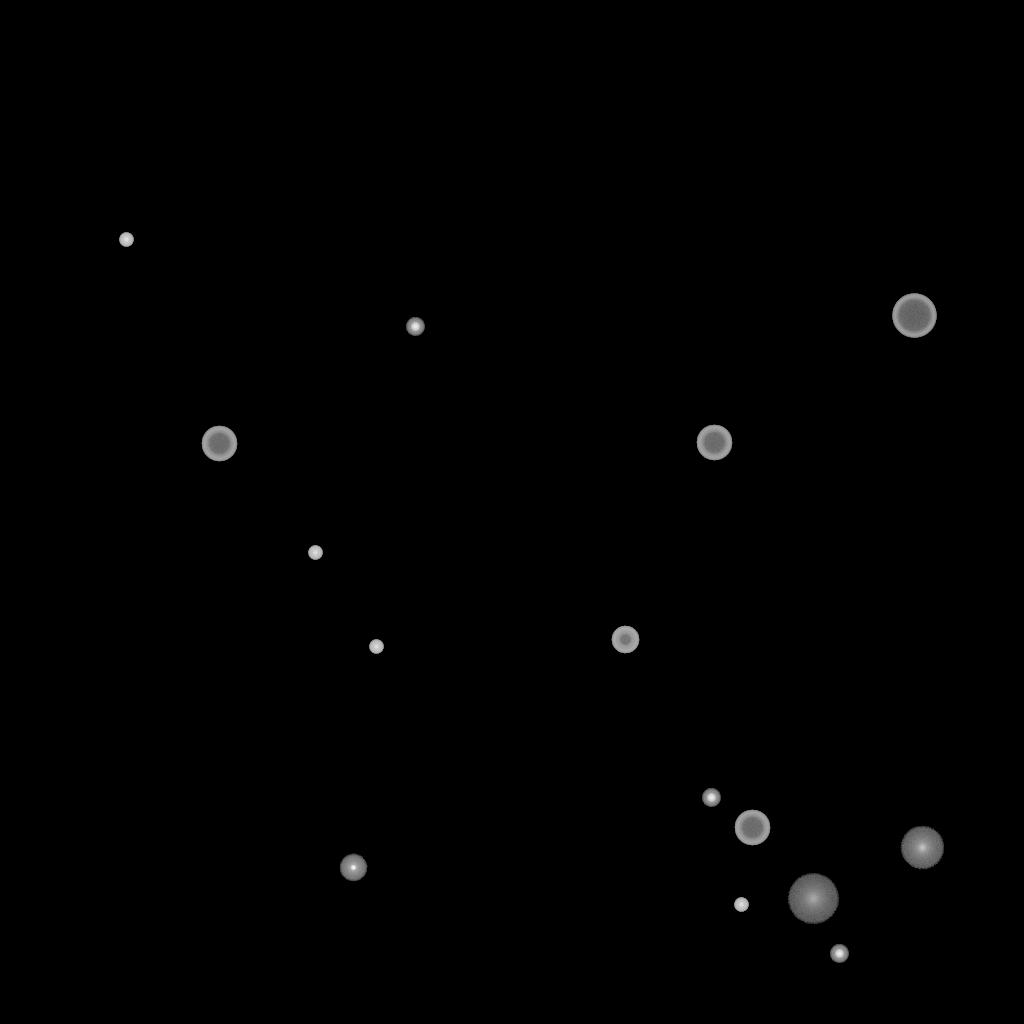depth:-10: (339, 854, 367, 882)
depth:-20: (830, 945, 848, 963), (702, 789, 720, 807), (406, 318, 424, 336)
depth:-30: (308, 546, 322, 560), (119, 233, 133, 247), (734, 898, 748, 912), (369, 640, 383, 654)
depth:-50: (611, 626, 639, 654)
depth:-60: (734, 810, 770, 846), (201, 426, 237, 462), (696, 425, 732, 461)
depth:-70: (892, 294, 936, 338)
depth:10: (900, 826, 944, 870)
depth:20: (787, 874, 839, 924)
